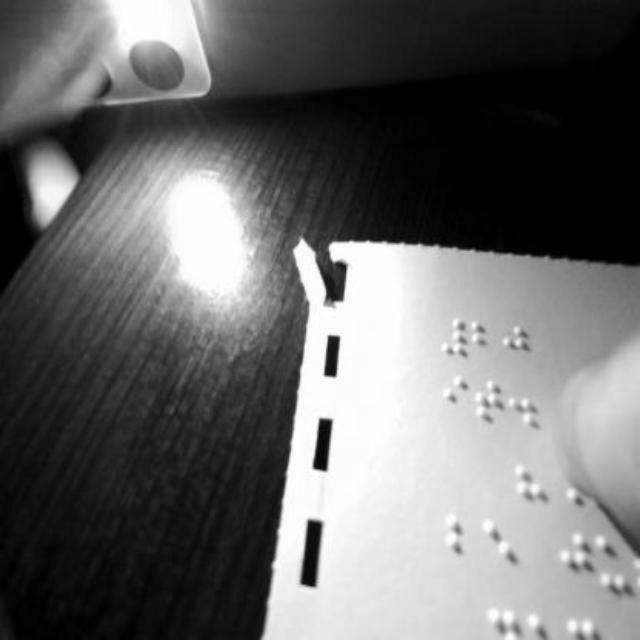braiile: (480, 511, 516, 581), (444, 508, 476, 574), (475, 374, 507, 438), (472, 312, 502, 366), (442, 371, 468, 429), (506, 321, 532, 371)
